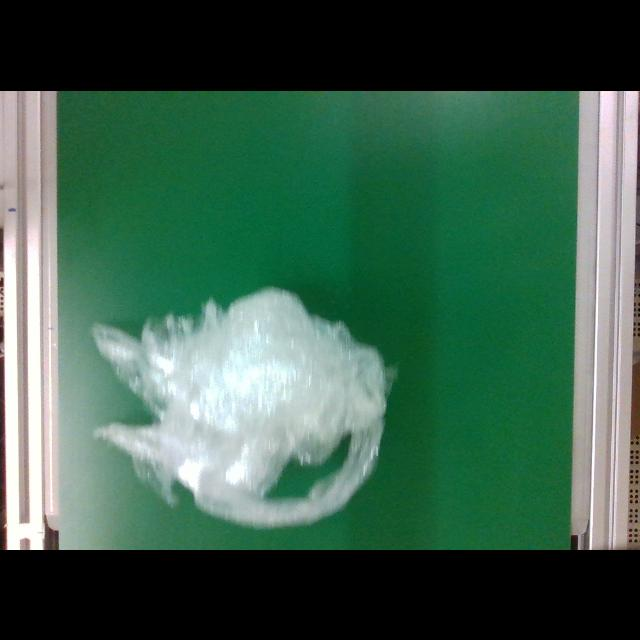scrap_plastic: (85, 280, 398, 528)
